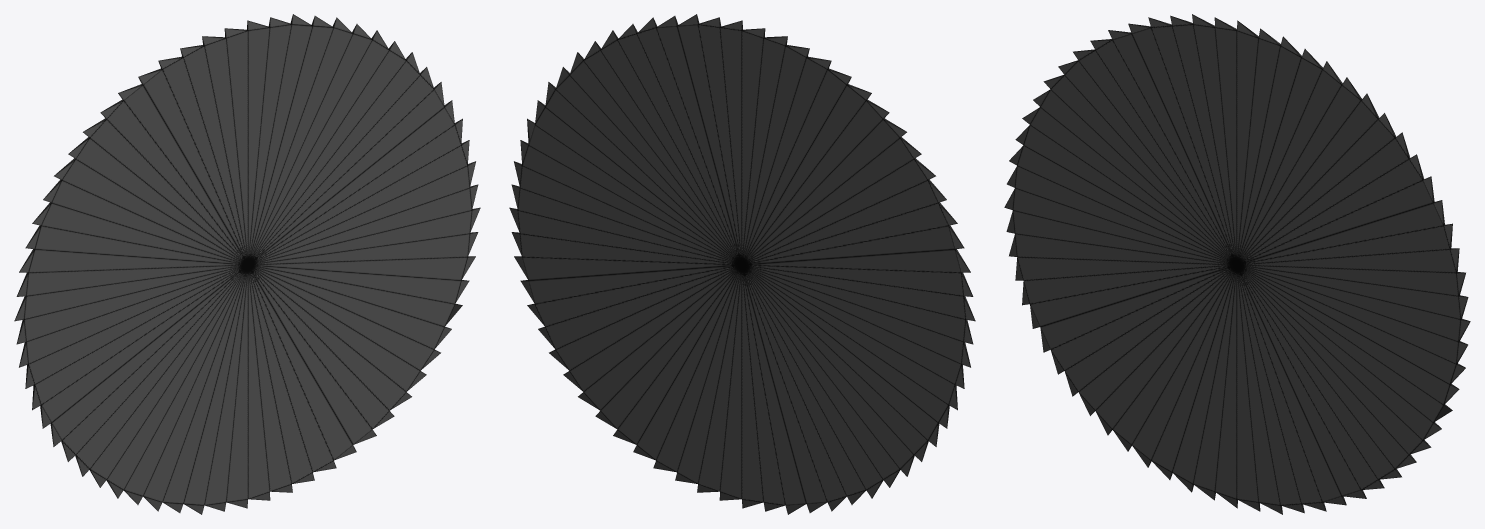
File: SawBlade.fbx
3 views of the same model, side by side, from view 1: azimuth 30°, elevation 25°; view 2: azimuth 150°, elevation 25°; view 3: azimuth 330°, elevation 25° (orthographic).
Parts seen in each view (by area): view 1: Circle.001; view 2: Circle.001; view 3: Circle.001.
Part boxes in pixels (x1,y1,x2,y2): Circle.001: (14, 14, 480, 514); Circle.001: (509, 14, 975, 514); Circle.001: (1004, 14, 1470, 514).
Bounding box in the file's own units: 400 × 400 × 2.
